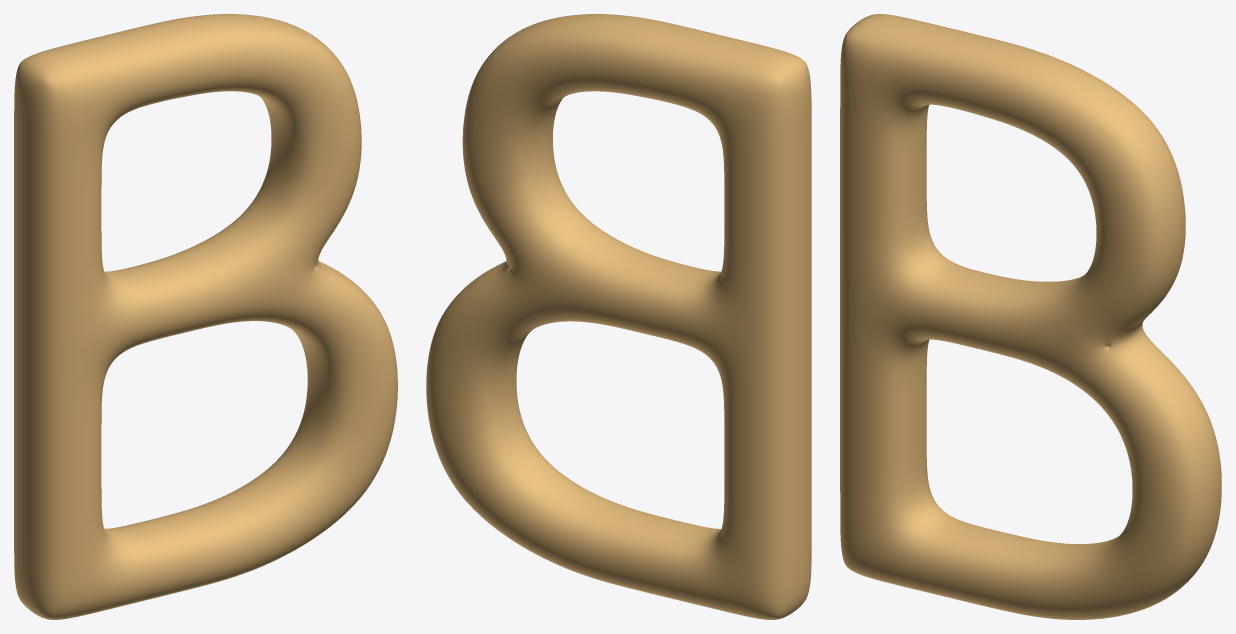
The model's file is 3DText-1.glb.
The picture shows the model from 3 angles, left to right: view 1: azimuth 30°, elevation 25°; view 2: azimuth 150°, elevation 25°; view 3: azimuth 330°, elevation 25°; orthographic projection.
Visible parts, largest first — view 1: Text.001; view 2: Text.001; view 3: Text.001.
Boxes of the visible parts, box(x1,y1,x2,y2) form: Text.001: box(14, 14, 397, 619); Text.001: box(426, 14, 811, 619); Text.001: box(840, 14, 1221, 619).
Size of the model in its own units: 2.71 by 3.95 by 0.5824.
